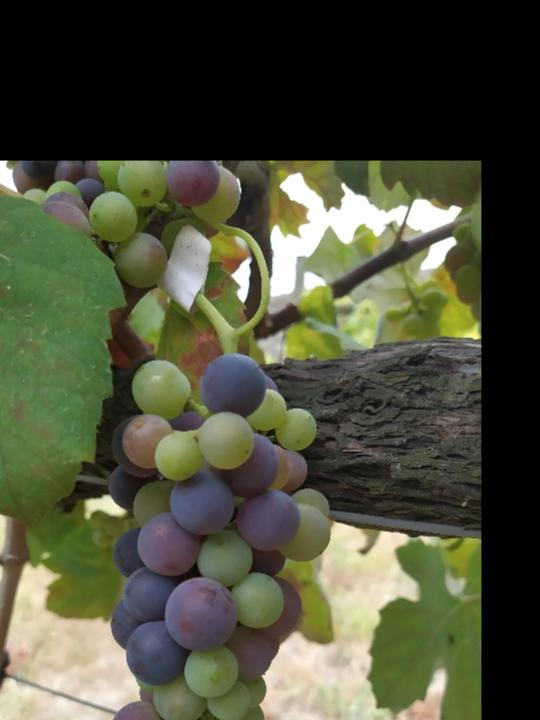grape: (104, 350, 334, 720)
